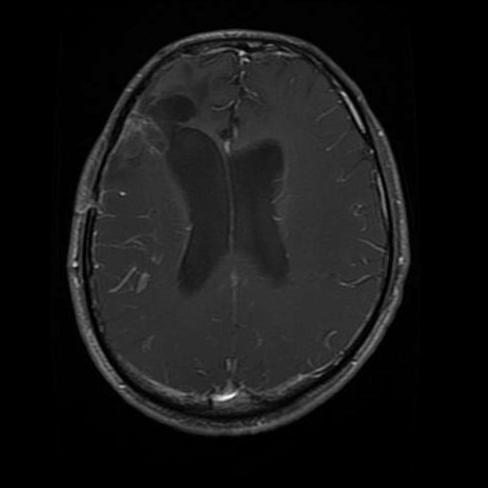Tumour-Glioma: (131, 73, 207, 149)
